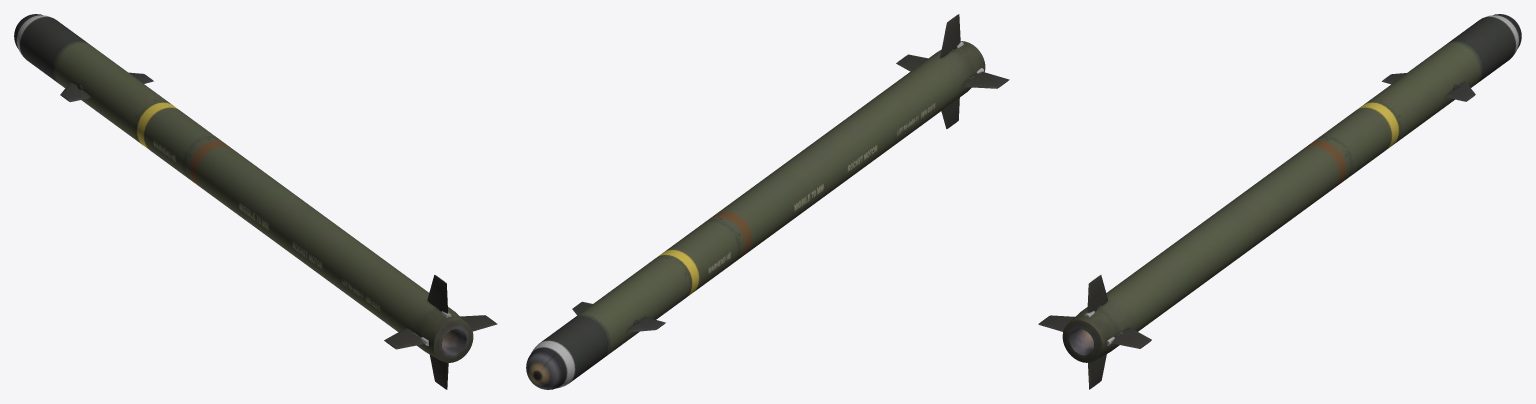
The model's file is msl_redeye.glb.
3 views of the same model, side by side, from view 1: azimuth 30°, elevation 25°; view 2: azimuth 150°, elevation 25°; view 3: azimuth 330°, elevation 25° (orthographic).
Visible parts, largest first — view 1: body|RDE_M; view 2: body|RDE_M; view 3: body|RDE_M.
Boxes of the visible parts, box(x1,y1,x2,y2) form: body|RDE_M: box(14, 14, 497, 389); body|RDE_M: box(526, 14, 1009, 389); body|RDE_M: box(1038, 14, 1521, 389).
Bounding box in the file's own units: 0.164 × 0.164 × 1.2.
1 material, 1 textured.
